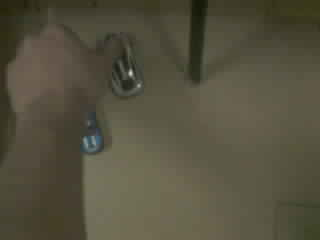Car: (110, 34, 142, 97), (82, 112, 103, 153)
